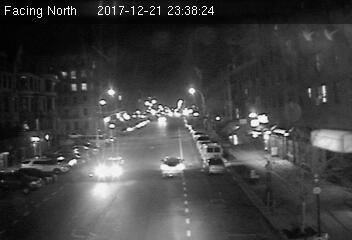car: (94, 155, 132, 182), (159, 155, 185, 179), (203, 156, 226, 176)
truck: (201, 144, 222, 159)
